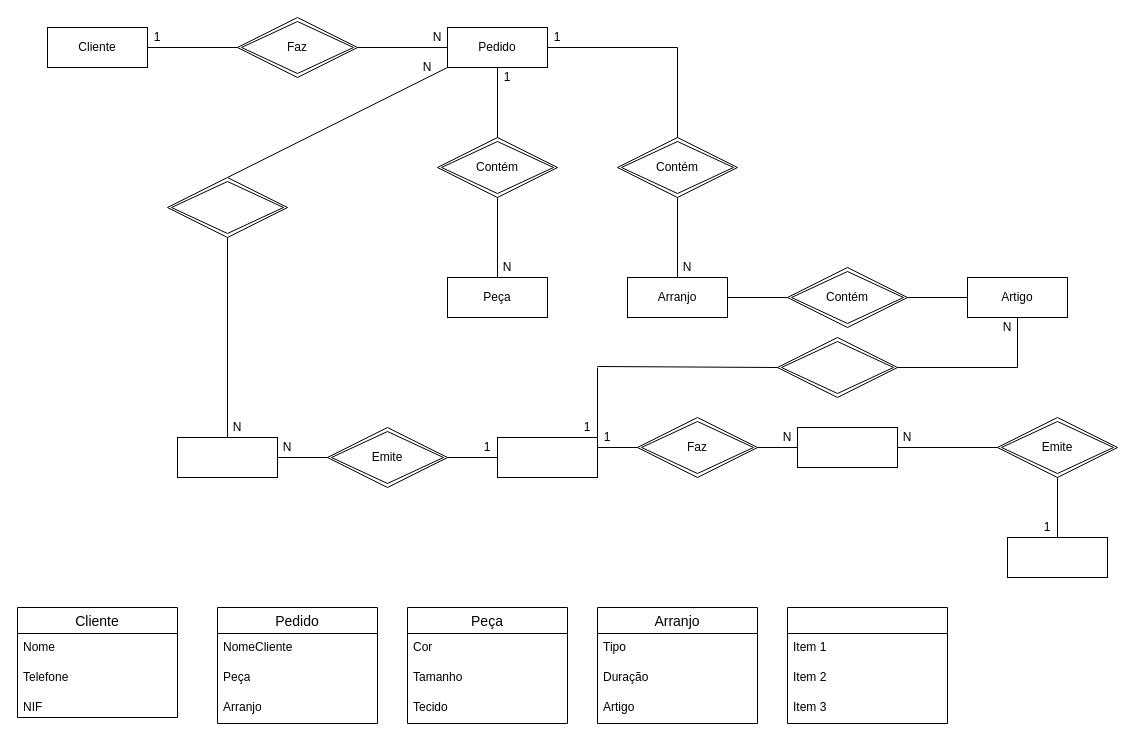
Some shapes in this 1135 by 744 pixel diagram are drawn without their labels. Each missing label, with the box of its shape:
DocumentoCompra: (796, 426, 898, 468)
DocumentoVenda: (176, 436, 278, 478)
Fornecedor: (1006, 536, 1108, 578)
Gera: (166, 176, 288, 238)
Loja: (496, 436, 598, 478)
Possui: (776, 336, 898, 398)
Trabalho: (786, 606, 948, 724)
